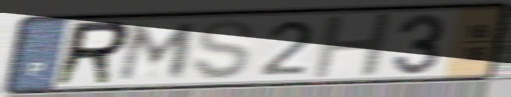2: (258, 19, 319, 77)
3: (389, 11, 446, 76)
H: (309, 11, 397, 82)
M: (115, 22, 202, 83)
R: (49, 19, 135, 89)
S: (189, 17, 259, 82)
